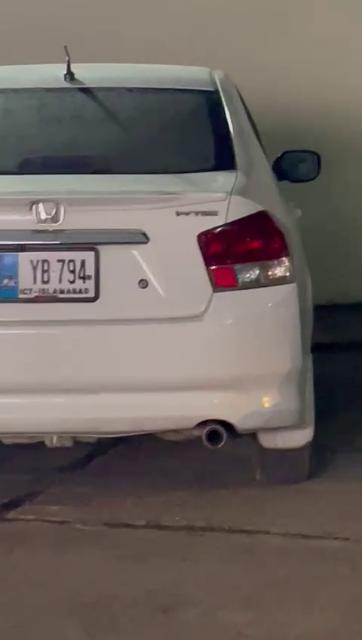plate: (0, 248, 101, 304)
